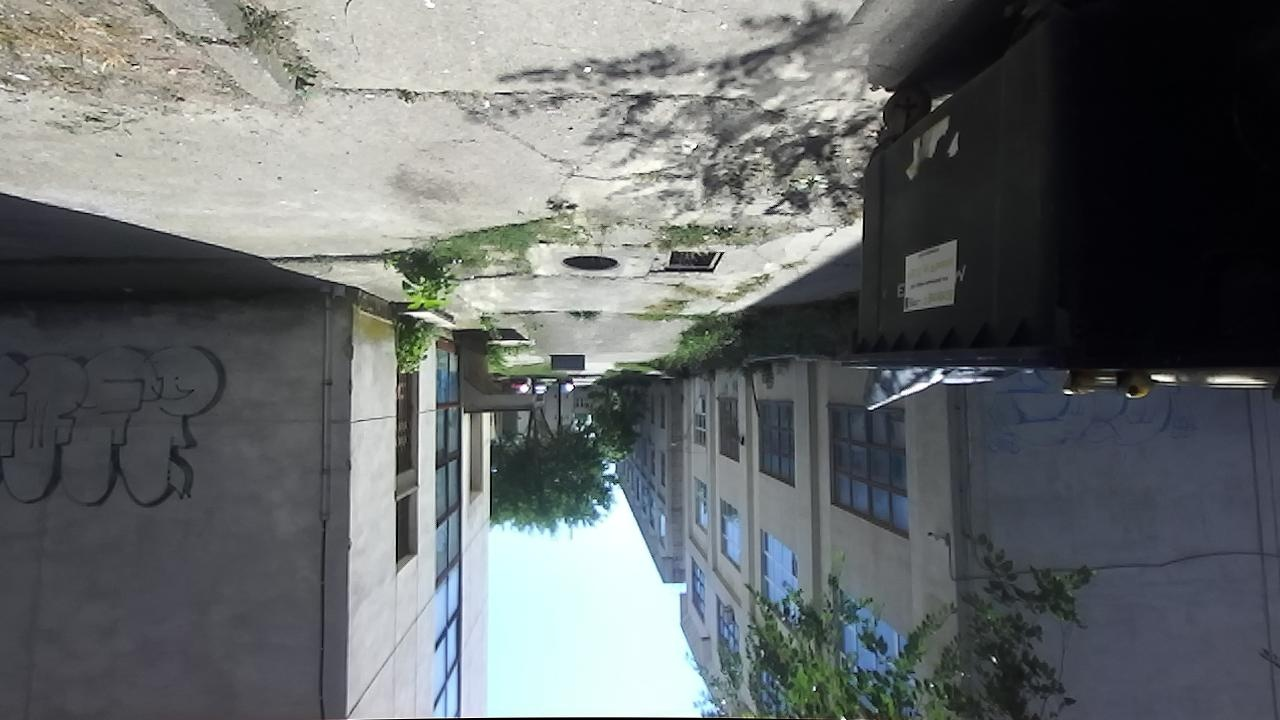drain: (661, 244, 730, 277), (559, 250, 623, 275)
